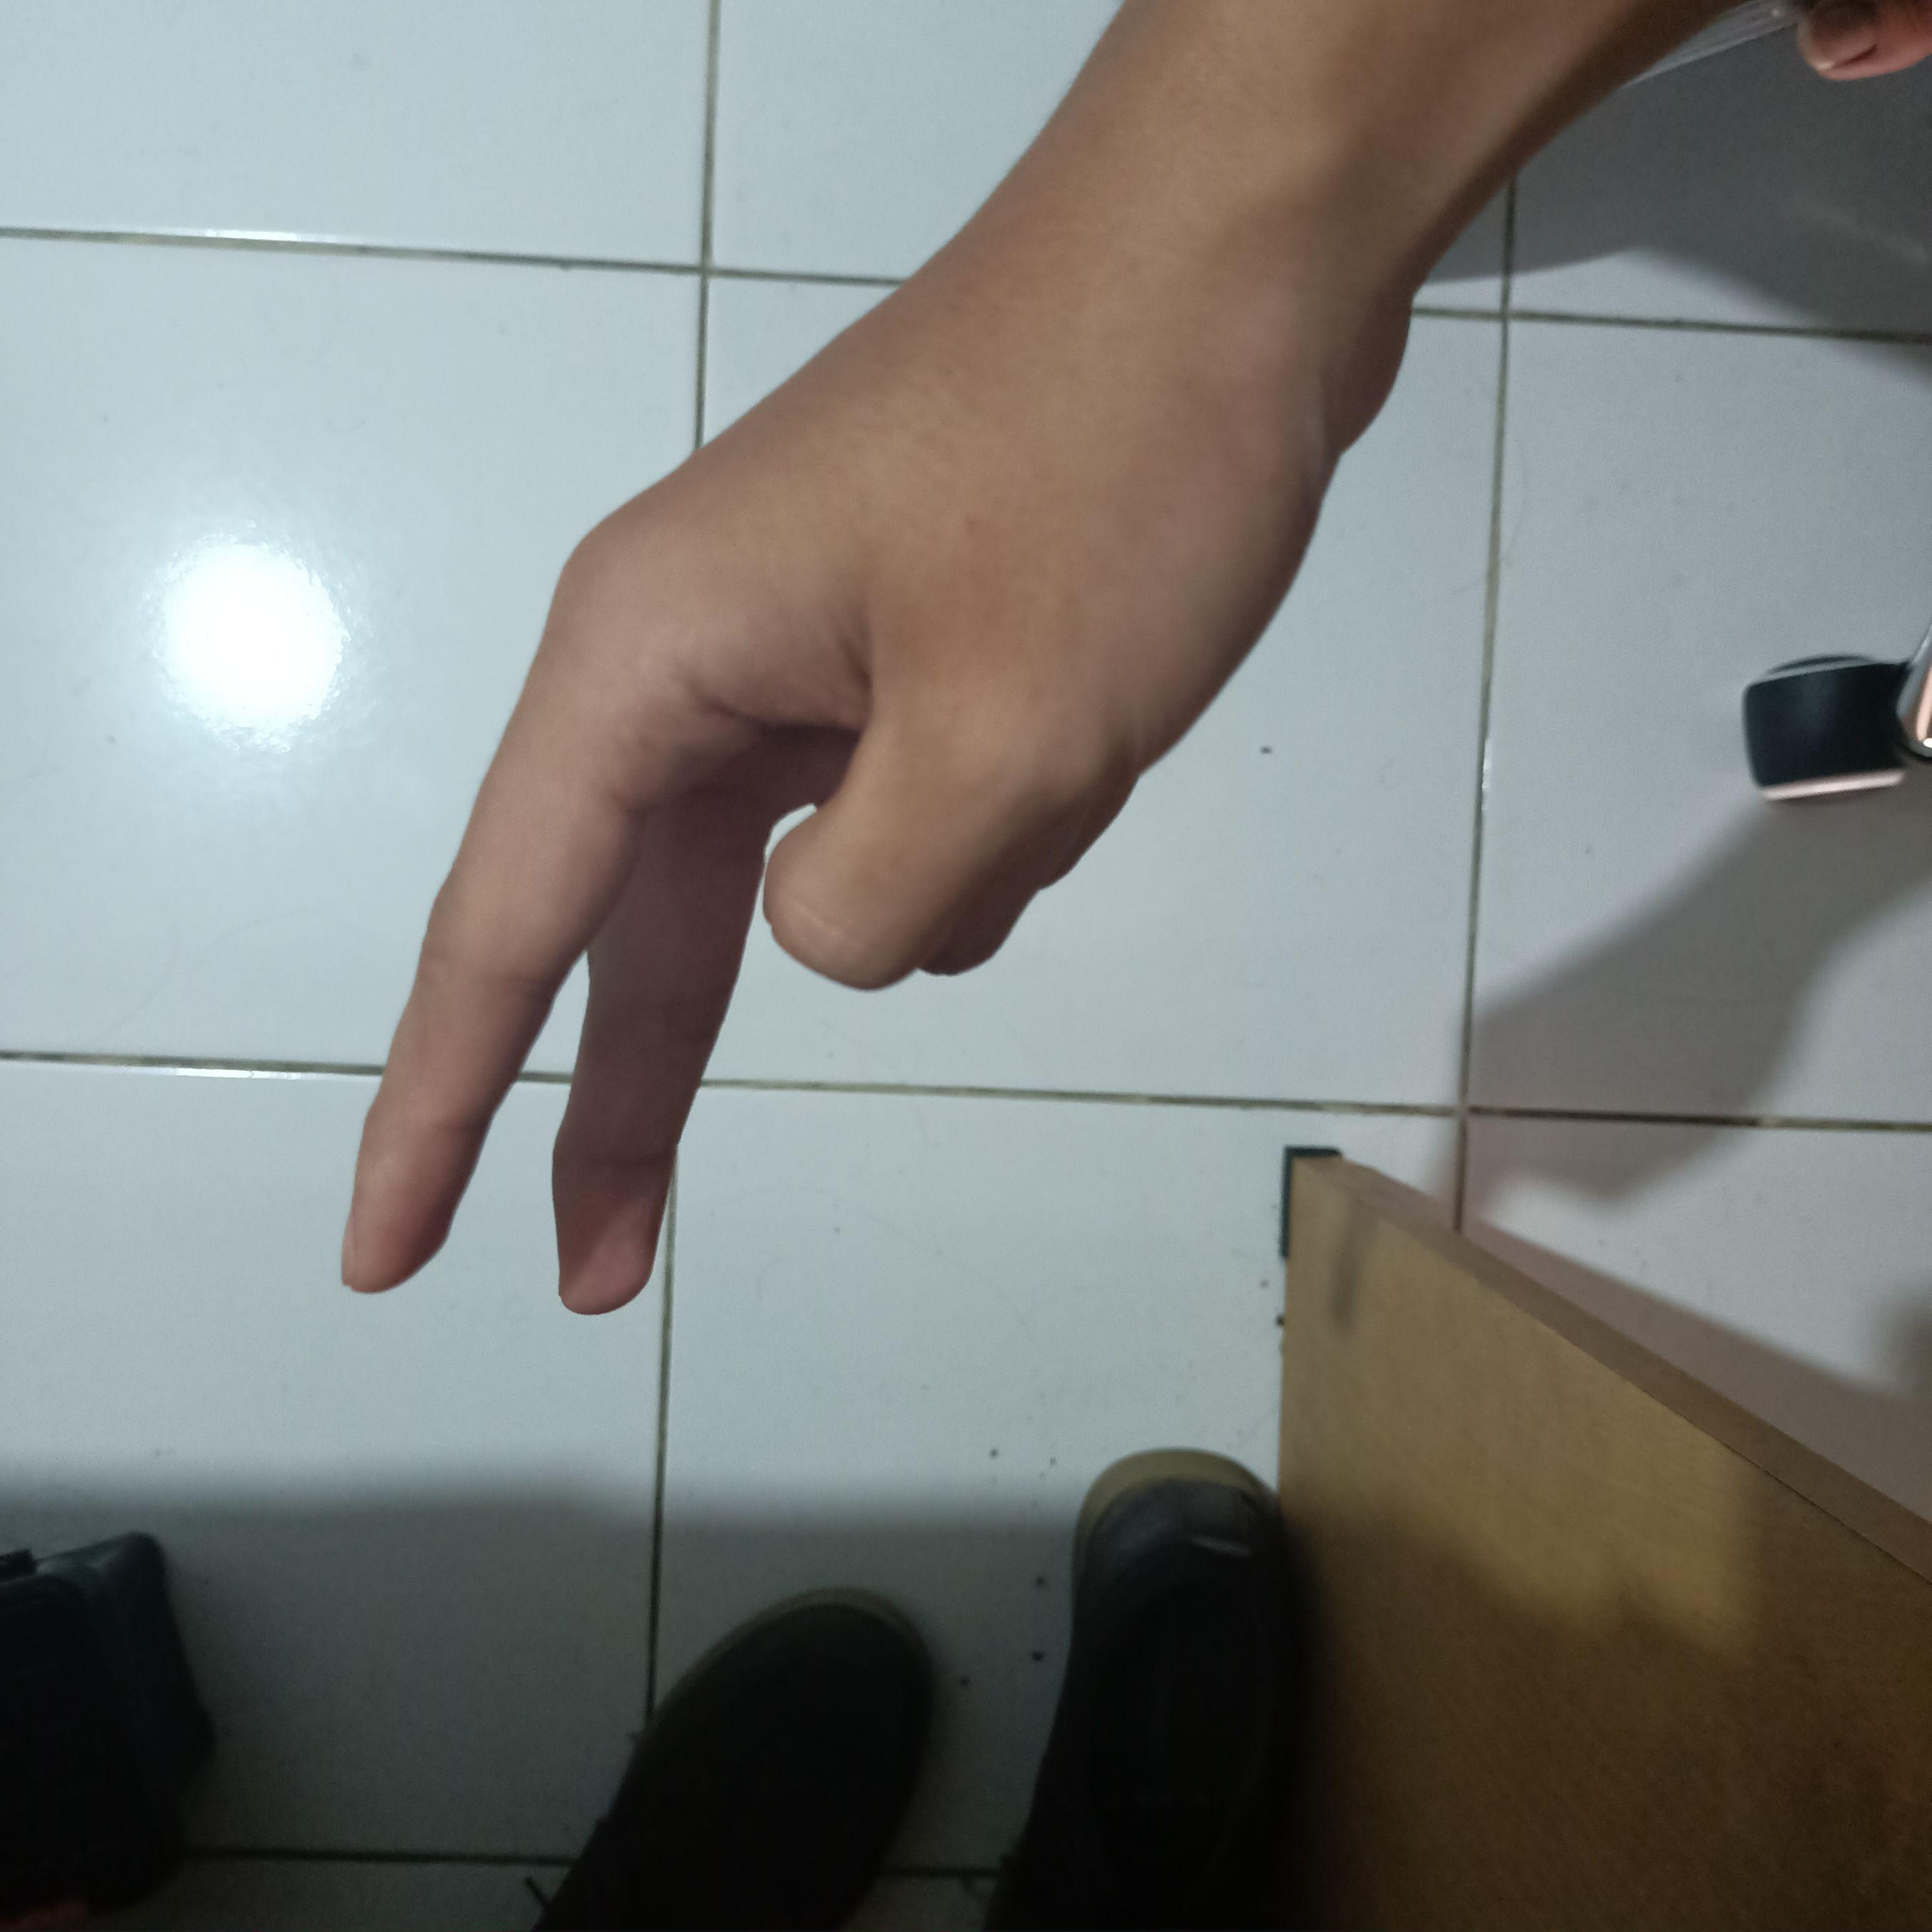scissors: (311, 241, 1355, 1330)
